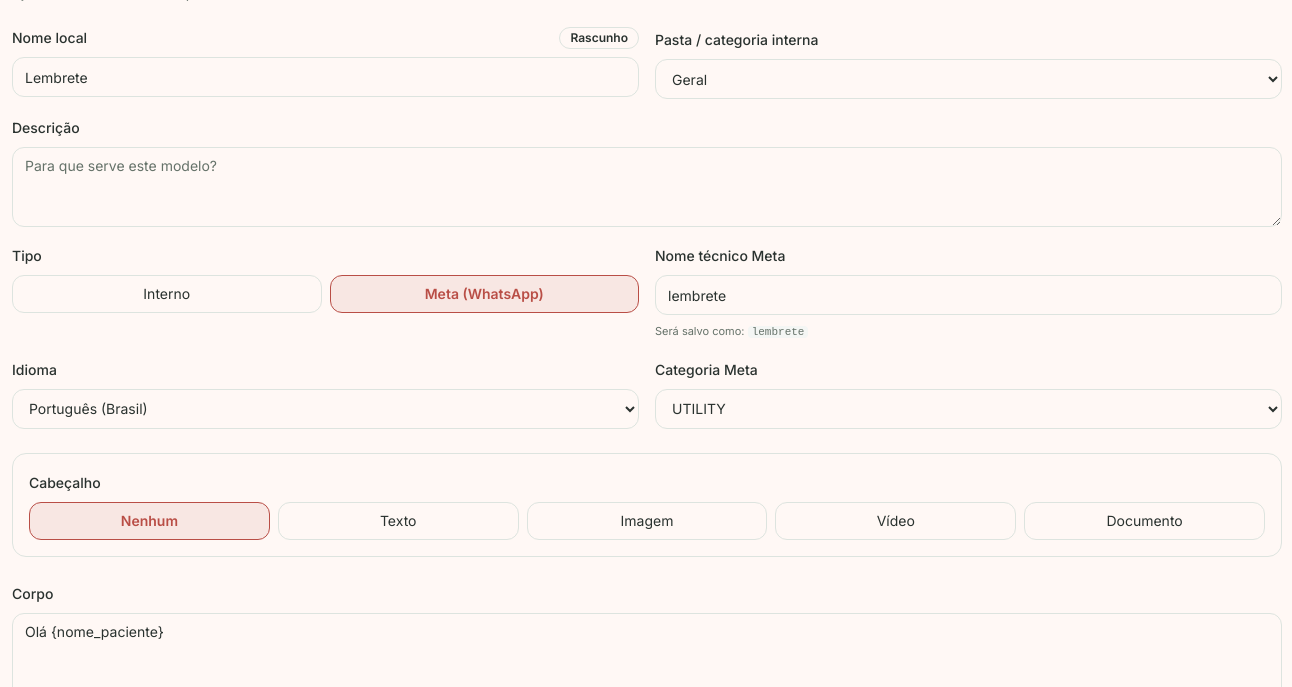
it: MessageTemplateEdit media header › submit button is disabled when media header has no handle
Click the radio button "Imagem" at coordinates (647, 520), box [527, 502, 767, 540]
(page scrolled)
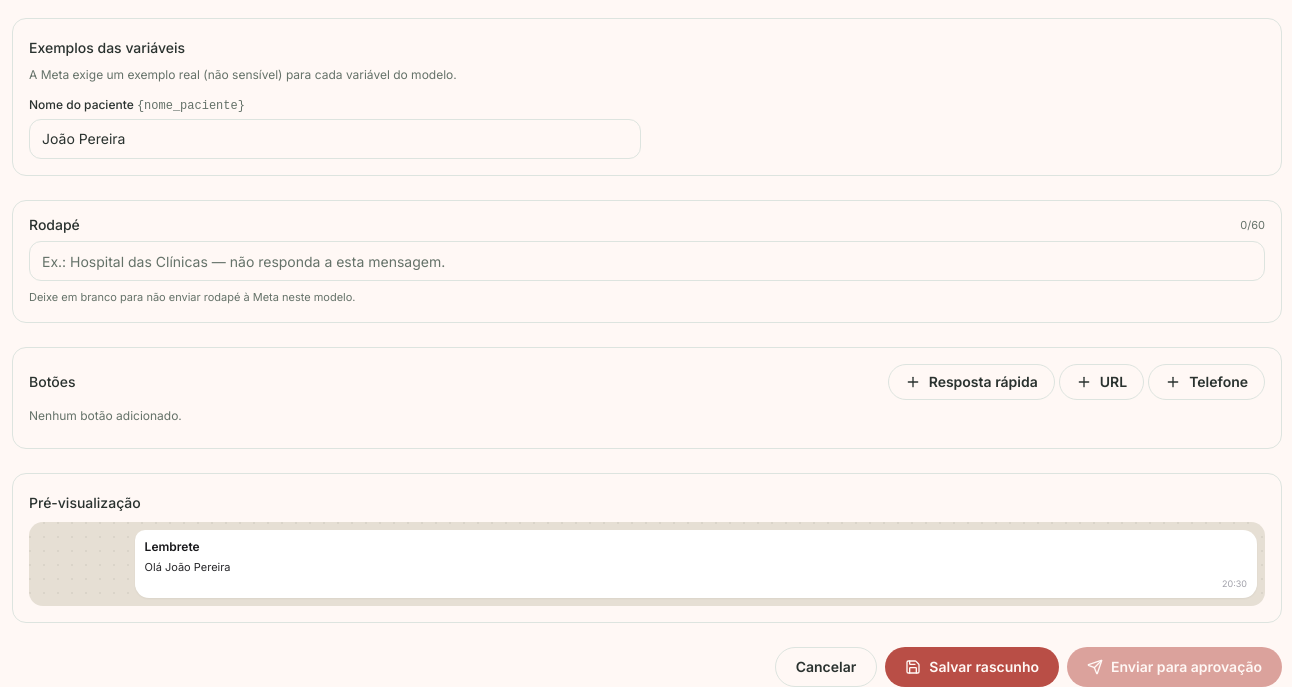
Check: the button "Enviar para aprovação" is disabled, box [1067, 647, 1282, 686]
